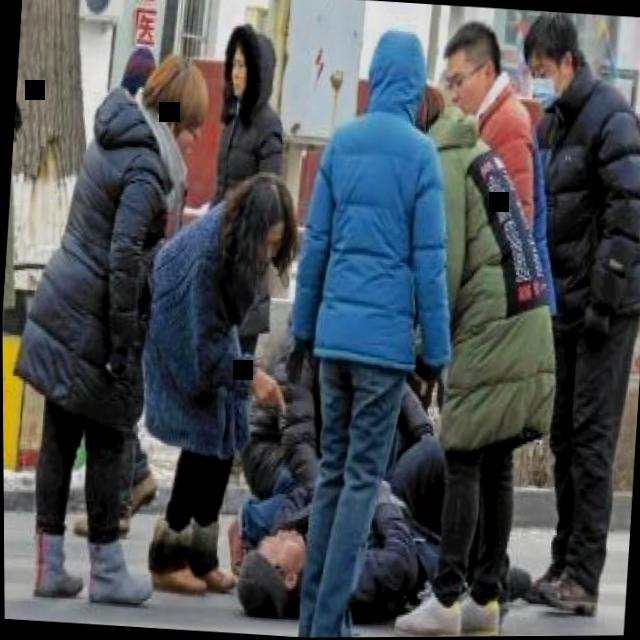Fall-Detected: (207, 411, 484, 633)
